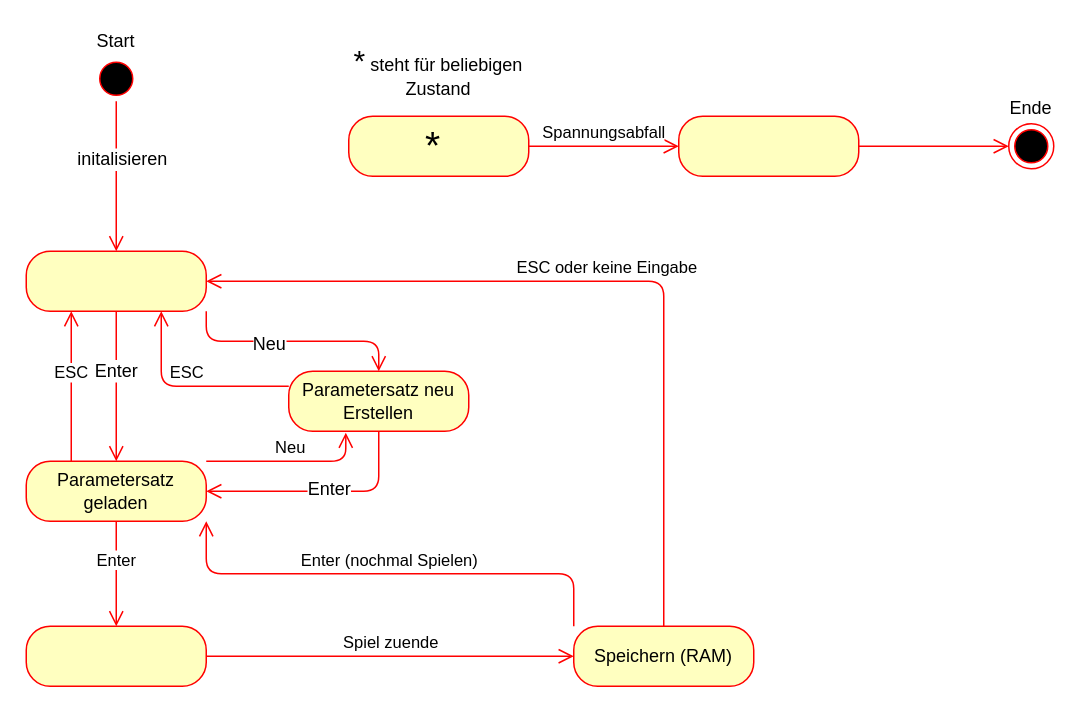
Some shapes in this 1088 by 713 pixel diagram are drawn without their labels. The shapes that lost their labels are listed below. From the top down, each one's centre as x and y in pixels, then its label:
At [768,145]: "Speichern(Flash)".
At [115,280]: "Warten".
At [115,655]: "laufendes Spiel".
